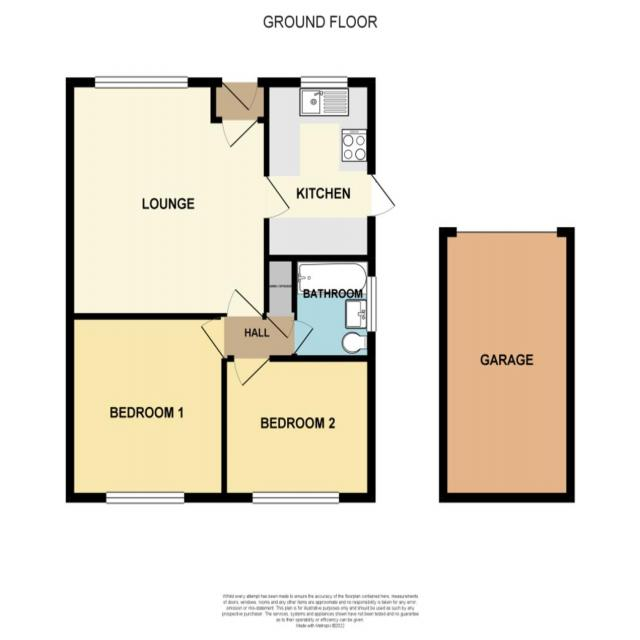DOOR: (367, 172, 398, 218), (199, 314, 228, 360), (263, 174, 292, 220), (232, 355, 271, 388), (225, 287, 264, 319), (292, 319, 315, 354)
ROOM: (66, 76, 291, 320), (66, 313, 227, 503), (263, 76, 397, 262), (221, 355, 376, 505)
WINDOW: (93, 75, 189, 89), (251, 490, 340, 505), (105, 491, 185, 505), (300, 75, 348, 89), (366, 275, 377, 333)
